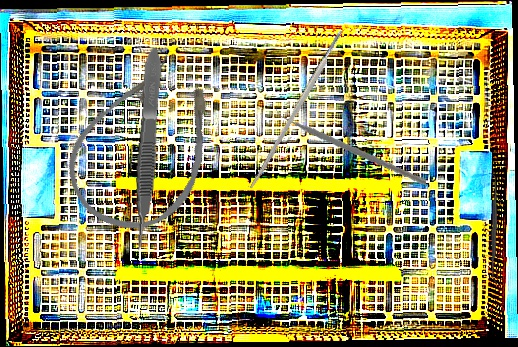Cannula: (48, 36, 246, 253)
Chopper: (275, 82, 427, 204)
Scalpel Handle: (247, 29, 346, 191)
Spatula Surgical: (486, 173, 503, 285)
Tissue Forceps: (127, 47, 166, 252)
